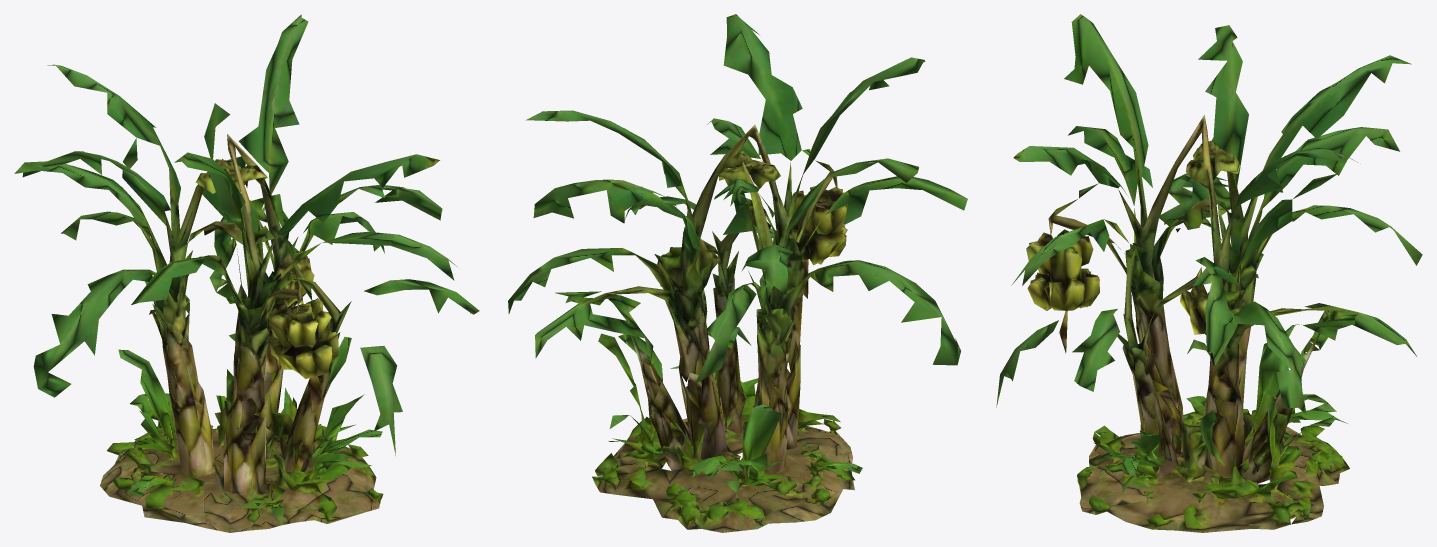
File: banana-plants.glb
3 renders of one model, left to right at view 1: azimuth 30°, elevation 25°; view 2: azimuth 150°, elevation 25°; view 3: azimuth 270°, elevation 25°, orthographic.
Parts seen in each view (by area): view 1: geometry_0; view 2: geometry_0; view 3: geometry_0.
Part boxes in pixels (x1,y1,x2,y2): geometry_0: (14, 14, 479, 532); geometry_0: (508, 14, 967, 532); geometry_0: (996, 14, 1422, 532).
Size of the model in its own units: 1.08 by 1 by 0.9546.
Materials: 1 (1 with a texture image).
